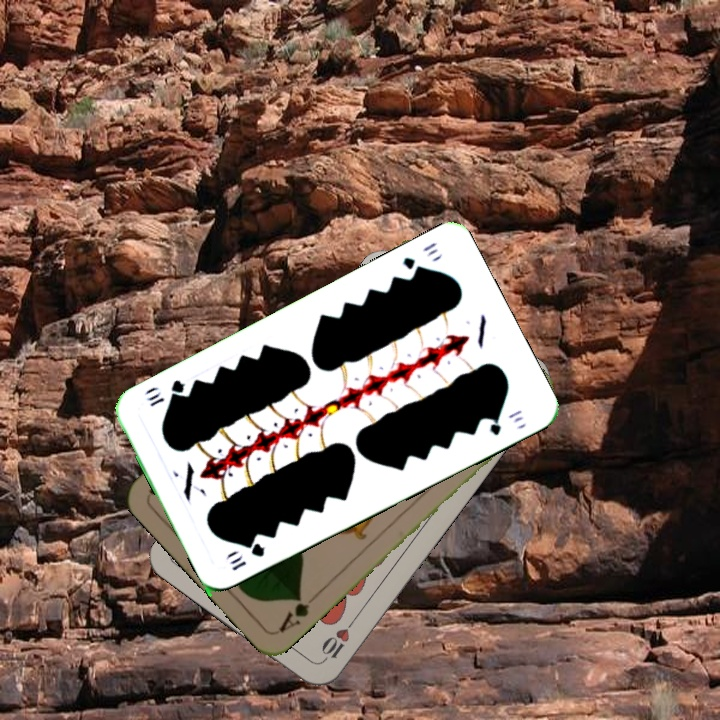G10: (398, 238, 441, 278), (220, 539, 267, 574)
GA: (274, 590, 321, 636)
H10: (317, 614, 359, 665)
